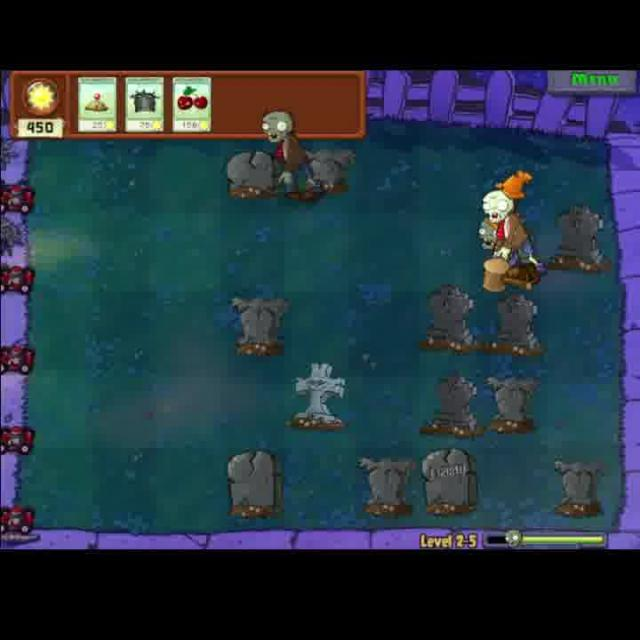coins: (478, 168, 534, 291), (255, 105, 319, 204)
